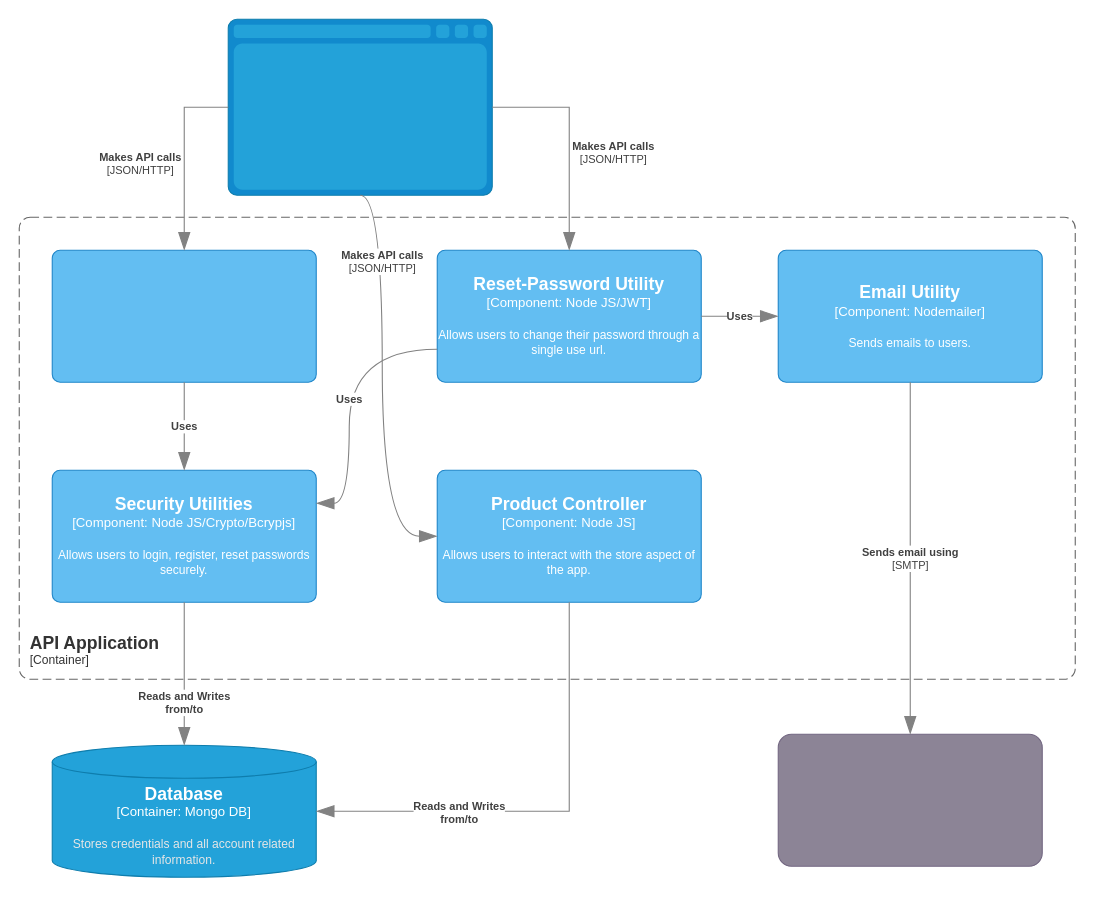
Image size: 1095x897. Some labels were removed from this diagram. Each missing label, with the centre of its shape:
Email System [Software System] Microsoft Email Service: pixel 909 799
Sign-in Controller [Component: Node JS/JWT] Allows users to register an account.: pixel 183 315
Single-Page Application [Container: HTML5/JavaScript]: pixel 359 106
